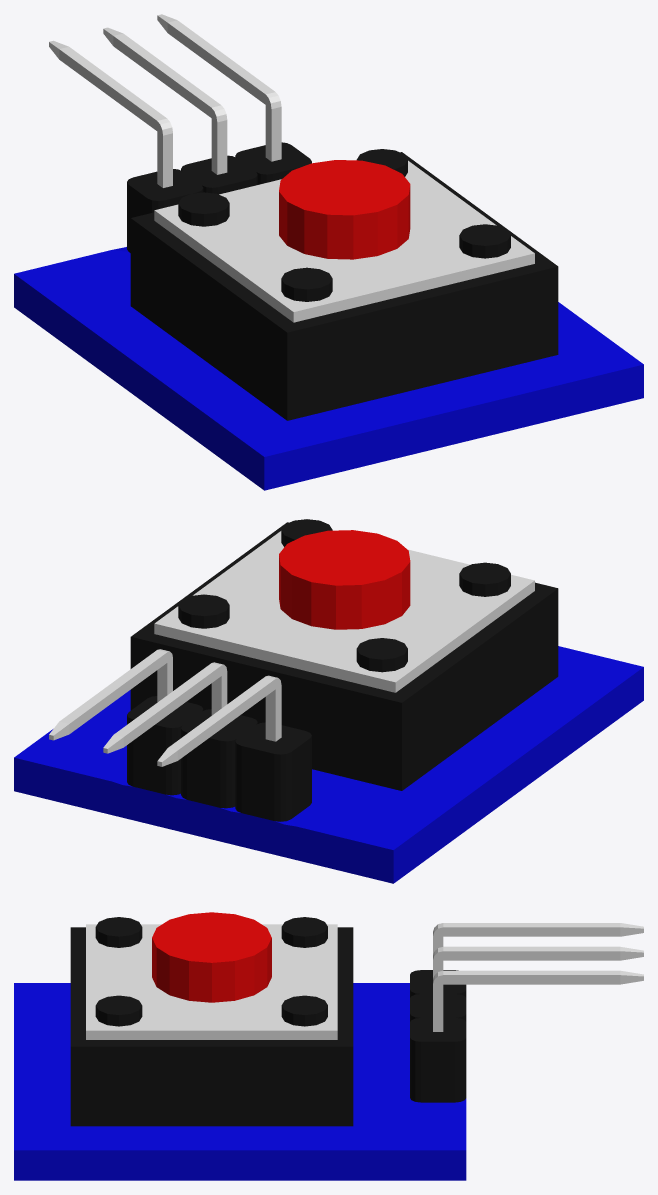
Rendered from PushButton.glb.
3 views of the same model, one above another, from view 1: azimuth 30°, elevation 25°; view 2: azimuth 150°, elevation 25°; view 3: azimuth 270°, elevation 25° (orthographic). The views are drawn at different scales.
Visible parts, largest first — view 1: Cube; view 2: Cube; view 3: Cube.
Part boxes in pixels (x1=…): Cube: x1=14, y1=14, x2=643, y2=490; Cube: x1=14, y1=519, x2=643, y2=883; Cube: x1=14, y1=912, x2=643, y2=1180.
Size of the model in its own units: 1.89 by 0.84 by 3.01.
